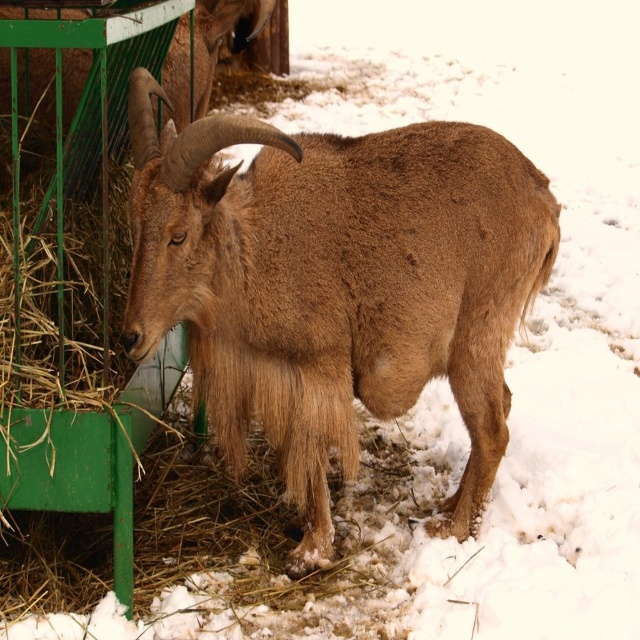Goat: (105, 96, 553, 578)
